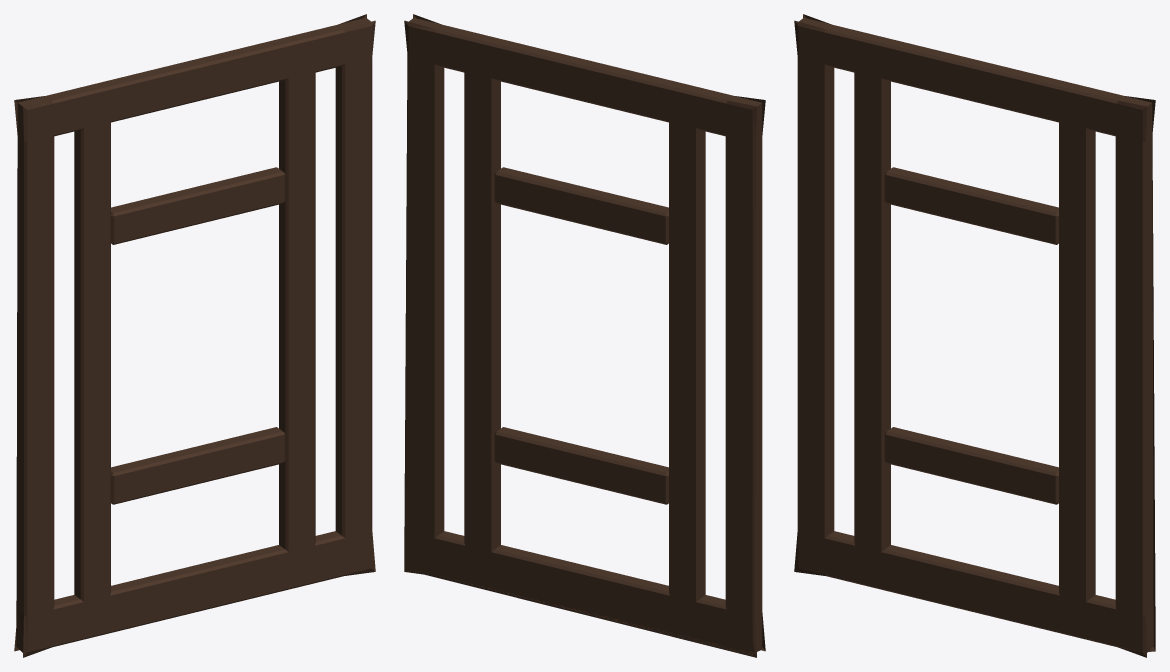
File: timber_window_w8.fbx
3 views of the same model, side by side, from view 1: azimuth 30°, elevation 25°; view 2: azimuth 150°, elevation 25°; view 3: azimuth 330°, elevation 25° (orthographic).
Parts seen in each view (by area): view 1: timber_window_w8; view 2: timber_window_w8; view 3: timber_window_w8.
Part boxes in pixels (bbox=[...]): timber_window_w8: bbox=[14, 14, 375, 657]; timber_window_w8: bbox=[404, 14, 765, 657]; timber_window_w8: bbox=[794, 14, 1155, 657].
Size of the model in its own units: 810 by 1210 by 35.
